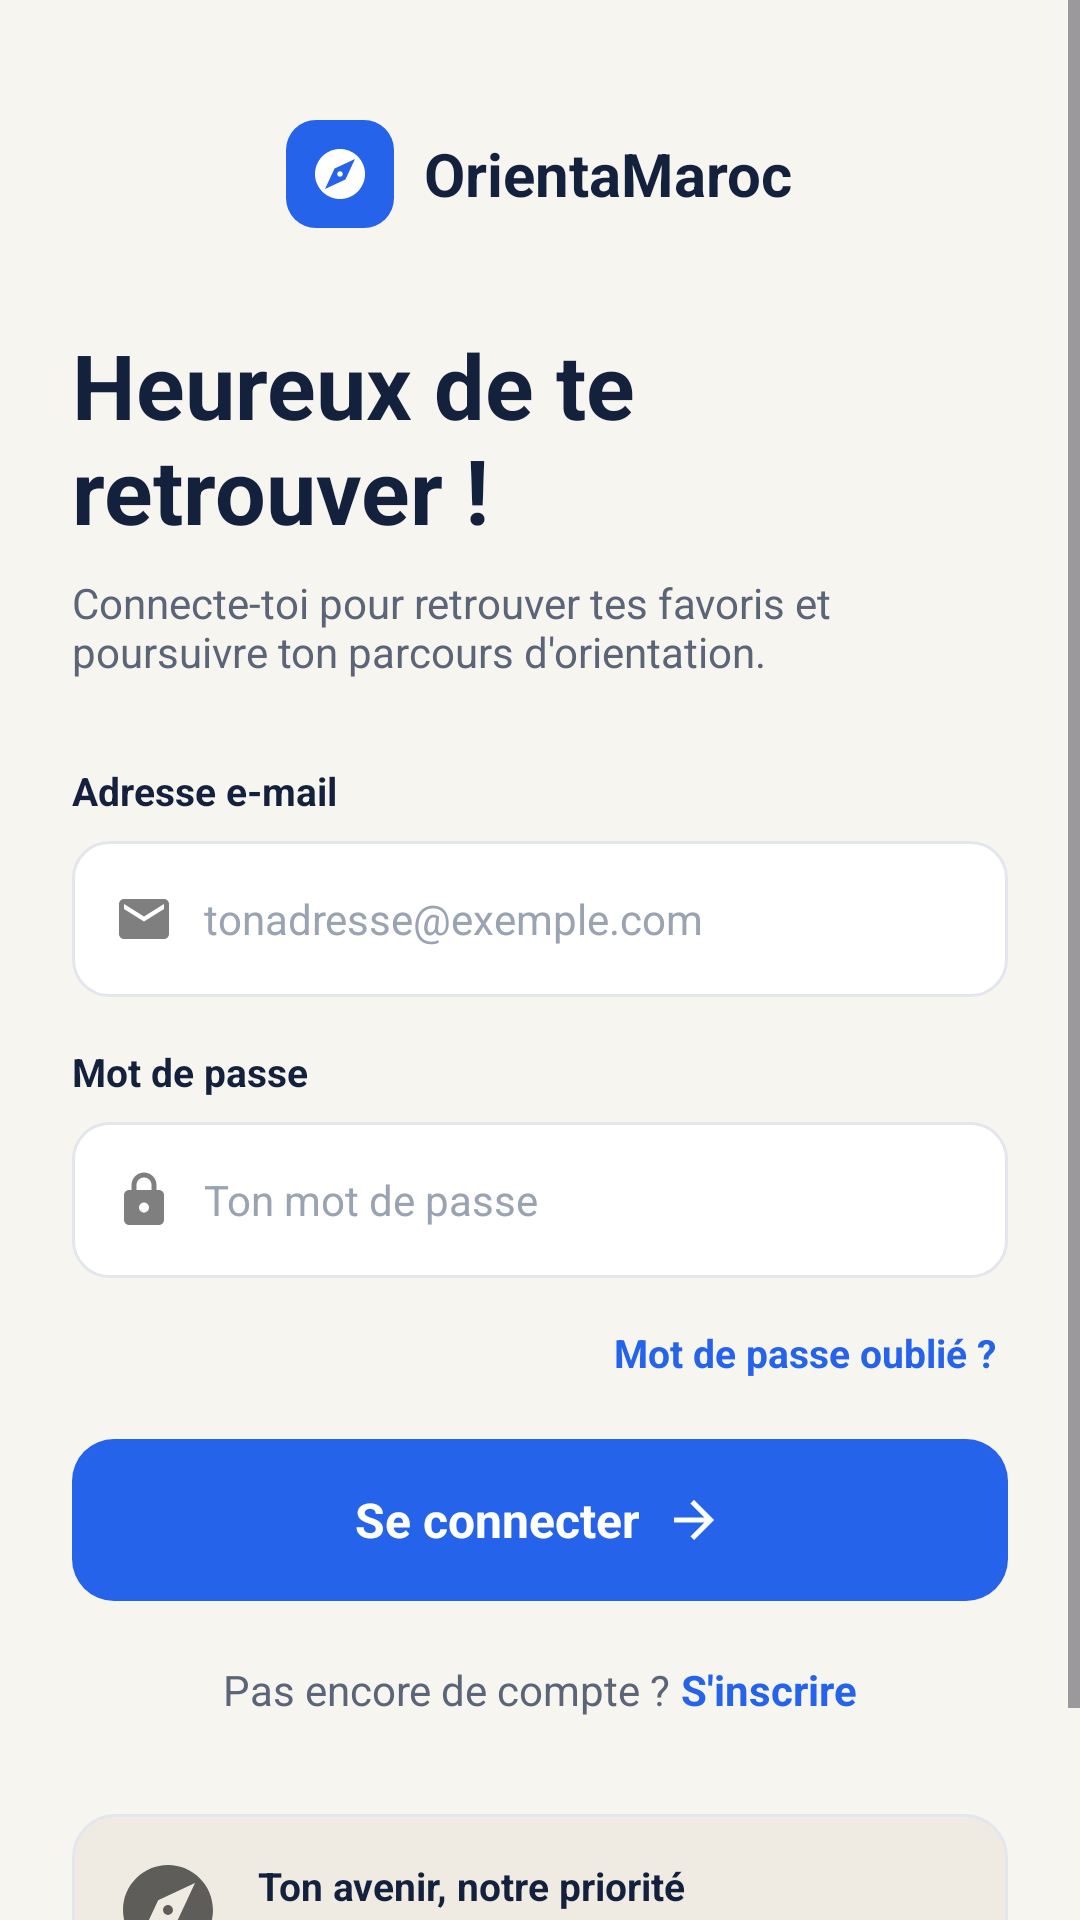

Icons on this 1080x1920 Android screen, each with its box as (x1, y1, x2, y2):
arrow: (674, 1500, 714, 1540)
